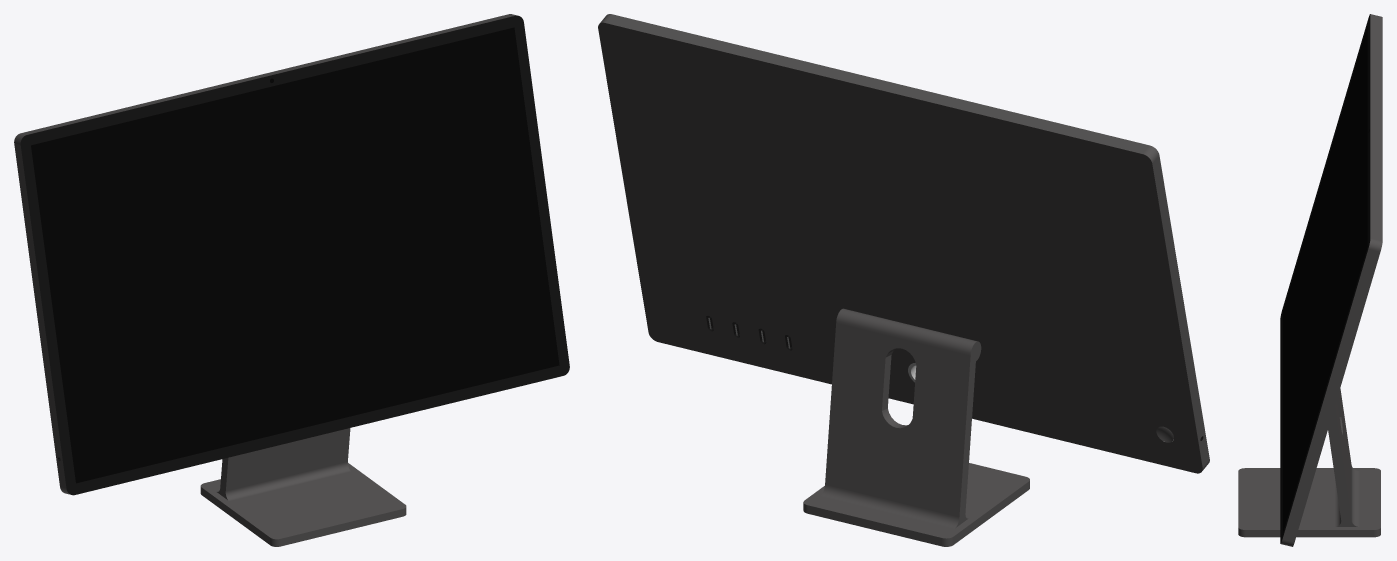
The model's file is imac_pro__CC-BY-ND_not-usable.glb.
The picture shows the model from 3 angles, left to right: view 1: azimuth 30°, elevation 25°; view 2: azimuth 150°, elevation 25°; view 3: azimuth 270°, elevation 25°; orthographic projection. The views are drawn at different scales.
Parts seen in each view (by area): view 1: Object_6, Object_5, Object_7; view 2: Object_7; view 3: Object_6, Object_7, Object_5.
Boxes of the visible parts, x1,y1,x2,y2 form: Object_6: [31, 27, 559, 483]; Object_5: [20, 15, 569, 495]; Object_7: [14, 14, 516, 546]; Object_7: [598, 14, 1209, 546]; Object_6: [1283, 26, 1369, 532]; Object_7: [1238, 14, 1382, 546]; Object_5: [1280, 14, 1370, 543].
Size of the model in its own units: 547 by 420 by 145.
Materials: 6 (1 with a texture image).
